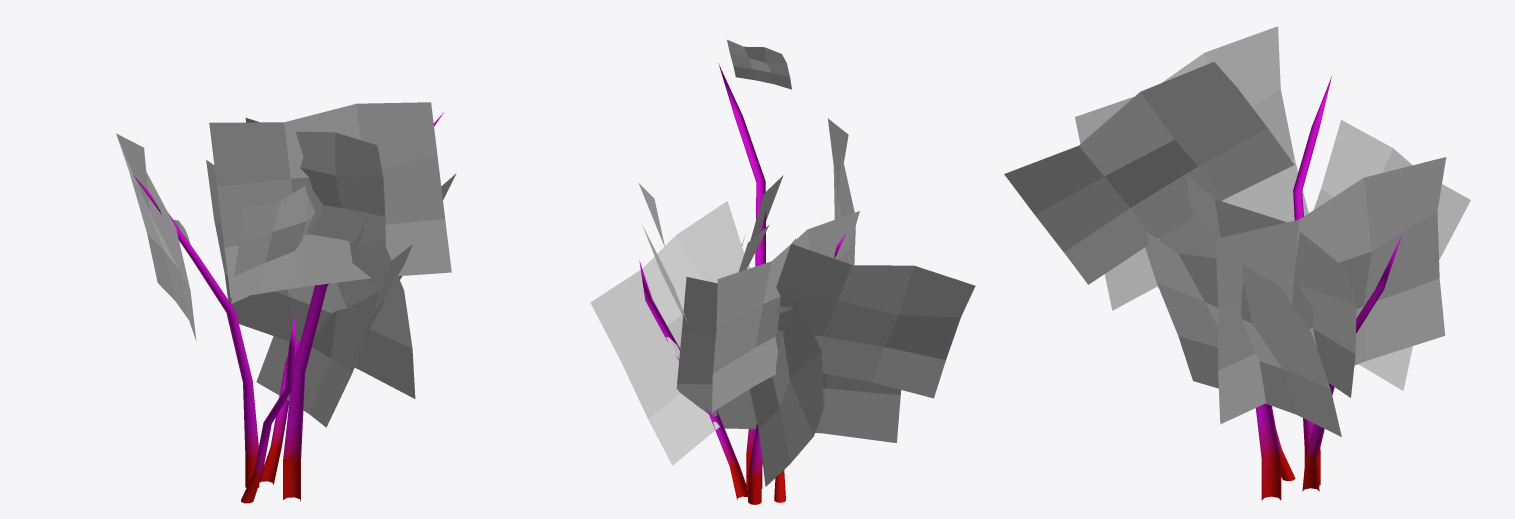
Rendered from tree_group.glb.
The picture shows the model from 3 angles, left to right: view 1: azimuth 30°, elevation 25°; view 2: azimuth 150°, elevation 25°; view 3: azimuth 270°, elevation 25°; orthographic projection. The views are drawn at different scales.
Visible parts, largest first — view 1: Small_Tree_Leaves, Small_Tree; view 2: Small_Tree_Leaves, Small_Tree; view 3: Small_Tree_Leaves, Small_Tree.
Boxes of the visible parts, x1,y1,x2,y2 form: Small_Tree_Leaves: (116,102,456,427); Small_Tree: (133,112,443,503); Small_Tree_Leaves: (590,39,975,486); Small_Tree: (639,63,846,504); Small_Tree_Leaves: (1004,26,1470,436); Small_Tree: (1255,76,1401,500).
Bounding box in the file's own units: 5.73 × 6.06 × 5.42.
